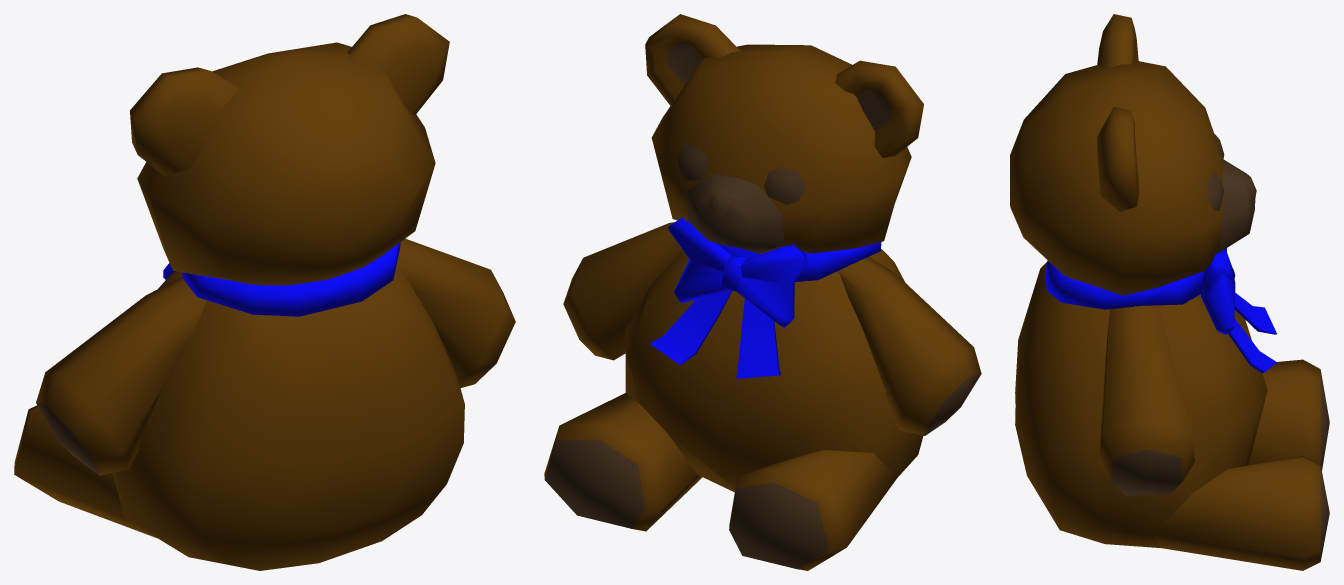
File: objTeddyBear.fbx
3 renders of one model, left to right at view 1: azimuth 30°, elevation 25°; view 2: azimuth 150°, elevation 25°; view 3: azimuth 270°, elevation 25°, orthographic. The views are drawn at different scales.
Visible parts, largest first — view 1: TeddyBear; view 2: TeddyBear; view 3: TeddyBear.
Boxes of the visible parts, <box> form: TeddyBear: <box>14,14,515,570</box>; TeddyBear: <box>544,14,981,570</box>; TeddyBear: <box>1010,14,1329,570</box>.
Size of the model in its own units: 97.28 by 65.85 by 102.
